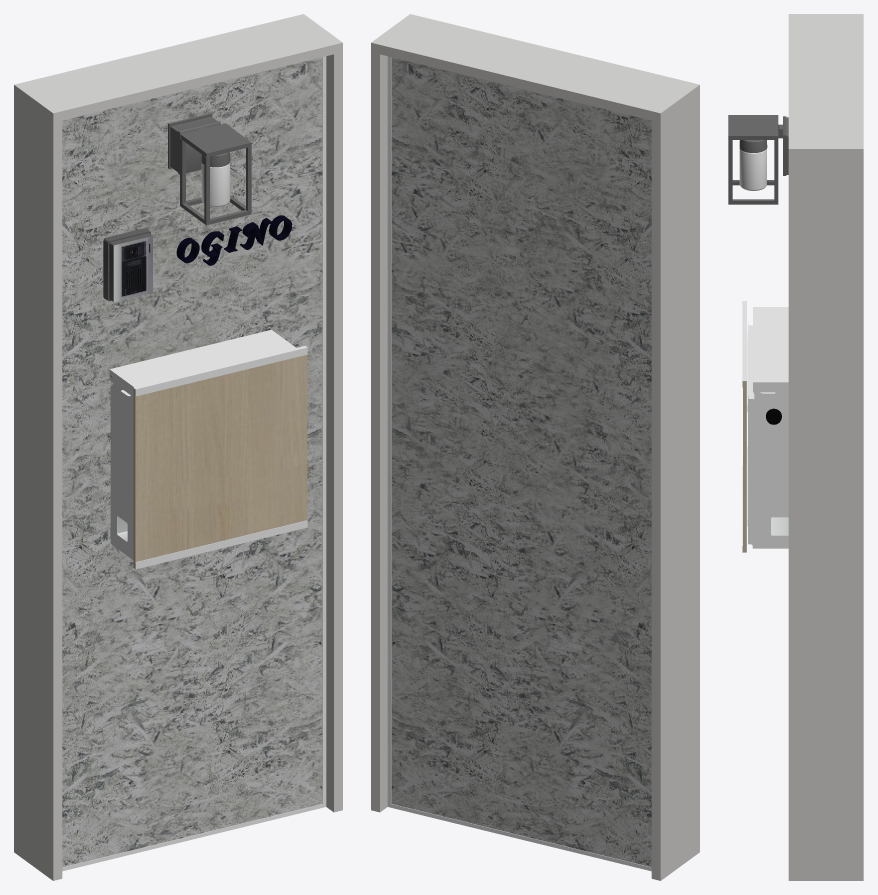
Rendered from 640-1620_strandowhite.fbx.
The picture shows the model from 3 angles, left to right: view 1: azimuth 30°, elevation 25°; view 2: azimuth 150°, elevation 25°; view 3: azimuth 270°, elevation 25°; orthographic projection. The views are drawn at different scales.
Parts seen in each view (by area): view 1: 640-1620_aristonmaburu.001; view 2: 640-1620_aristonmaburu.001; view 3: 640-1620_aristonmaburu.001.
Part boxes in pixels (bbox=[...]): 640-1620_aristonmaburu.001: bbox=[14, 14, 342, 880]; 640-1620_aristonmaburu.001: bbox=[371, 14, 699, 880]; 640-1620_aristonmaburu.001: bbox=[728, 14, 863, 880].
Size of the model in its own units: 64 by 162 by 27.12.
13 materials, 5 textured.
